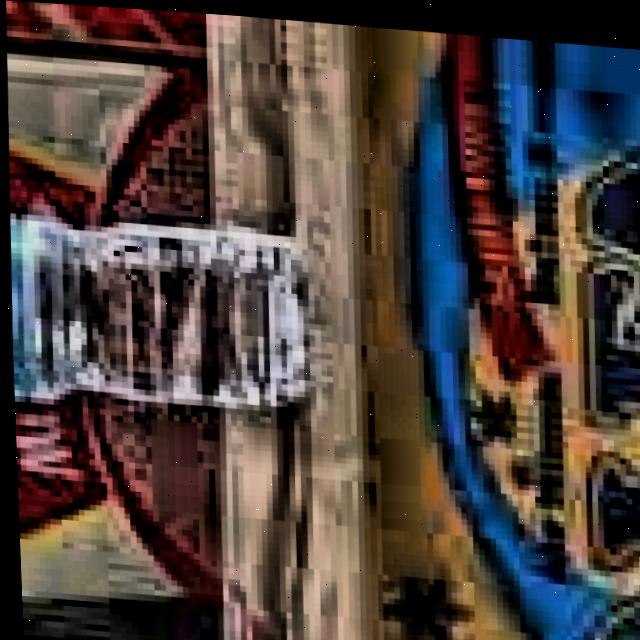plastic: (2, 73, 339, 548)
